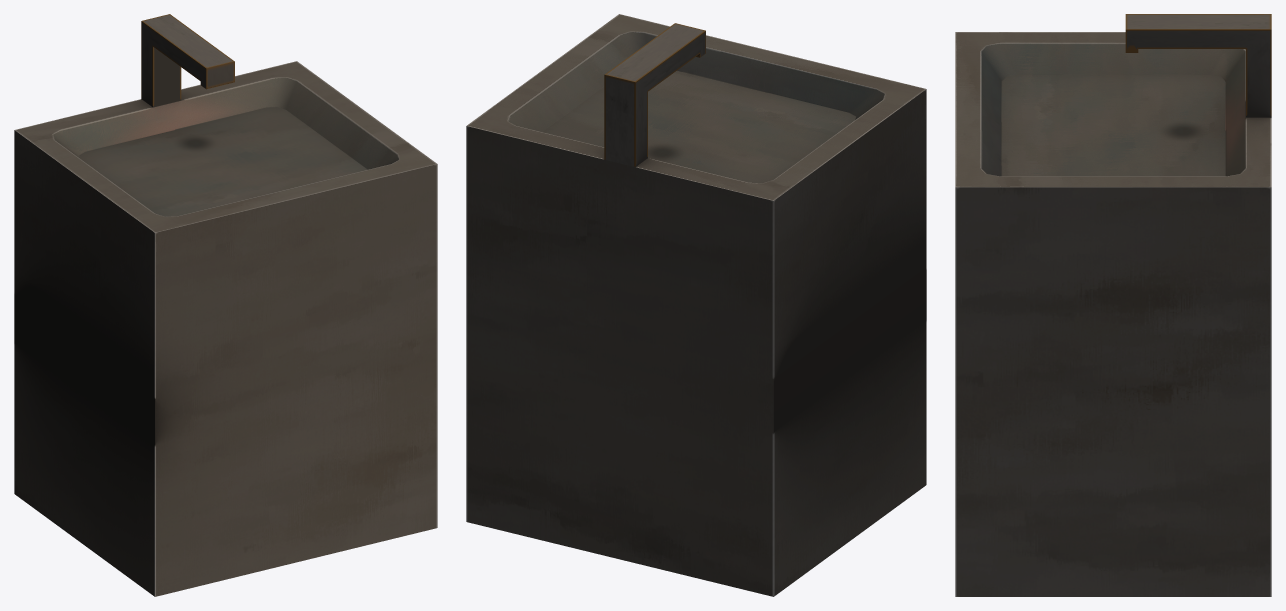
File: Cela_Sink.fbx
The picture shows the model from 3 angles, left to right: view 1: azimuth 30°, elevation 25°; view 2: azimuth 150°, elevation 25°; view 3: azimuth 270°, elevation 25°; orthographic projection. The views are drawn at different scales.
Visible parts, largest first — view 1: Plane.088; view 2: Plane.088; view 3: Plane.088.
Boxes of the visible parts, x1,y1,x2,y2 form: Plane.088: (14,14,437,596); Plane.088: (466,14,926,596); Plane.088: (955,14,1271,596).
Size of the model in its own units: 88.83 by 133 by 76.58.
